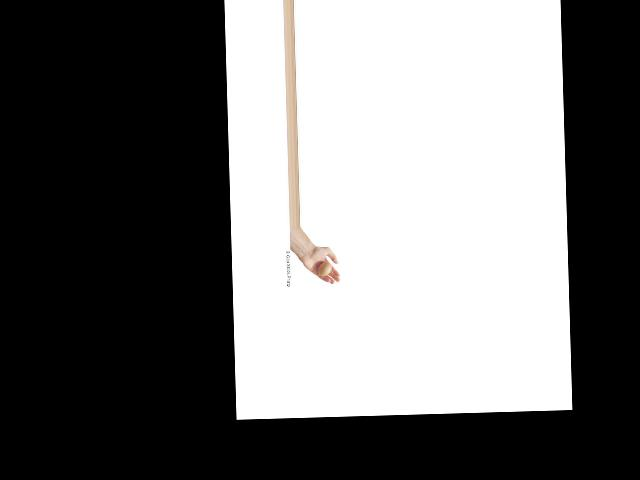egg: (317, 262, 331, 276)
